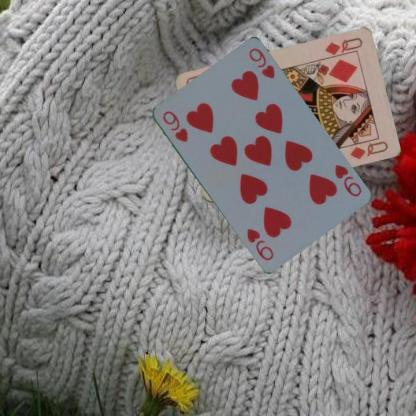9h: (160, 107, 190, 144), (332, 161, 362, 198)
Qd: (322, 35, 364, 62)
